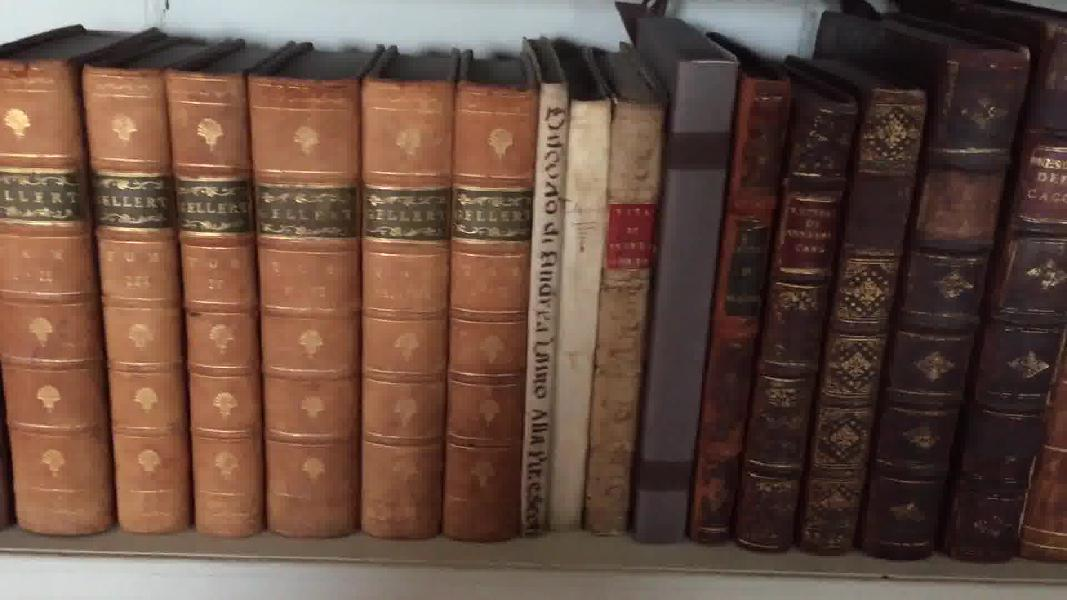Aa6-18_23: (1, 55, 528, 551)
Aa6-24: (517, 71, 562, 527)
Aa6-25: (547, 84, 613, 529)
Aa6-26: (590, 79, 661, 532)
Aa6-27: (628, 27, 728, 542)
Aa6-28: (682, 50, 785, 546)
Aa6-29: (735, 25, 854, 555)
Aa6-30: (801, 40, 931, 558)
Aa6-31: (868, 23, 1035, 576)
